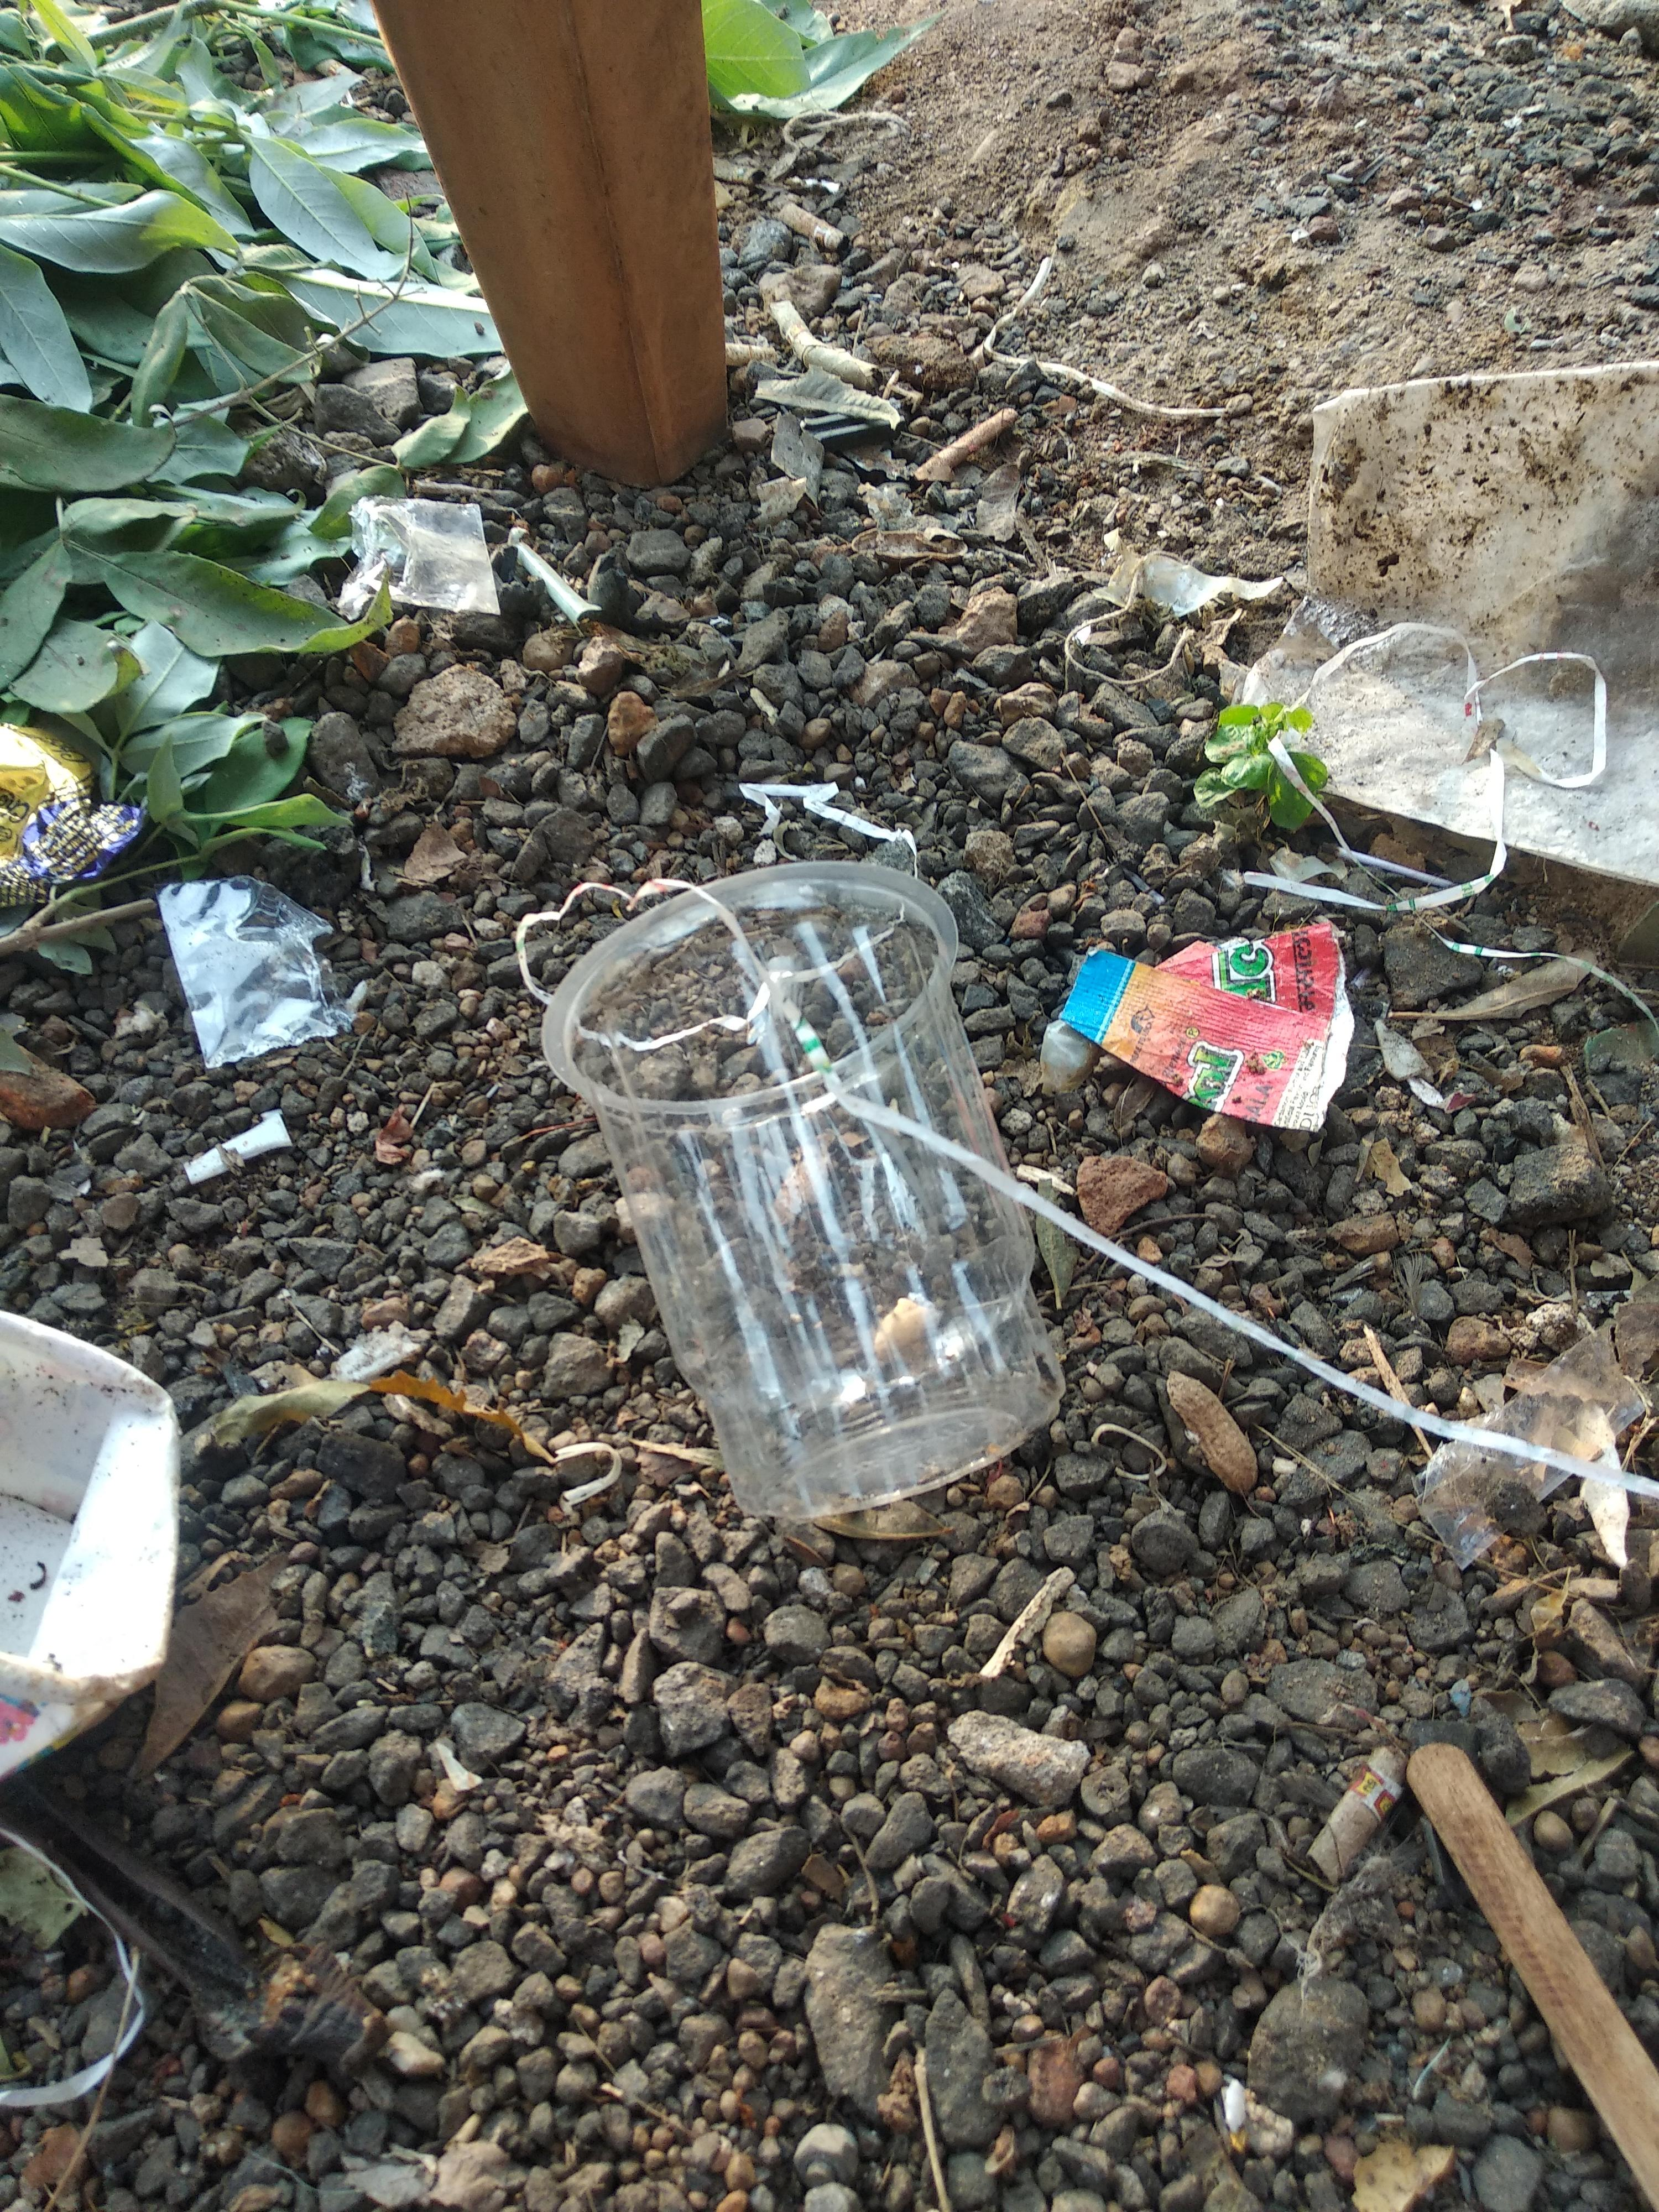organic: (0, 340, 1640, 2212)
